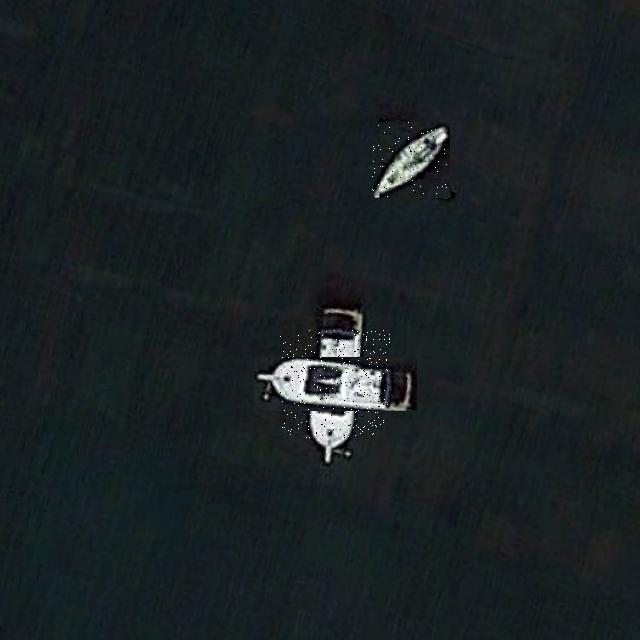boat: (280, 330, 390, 438), (372, 122, 450, 198)
